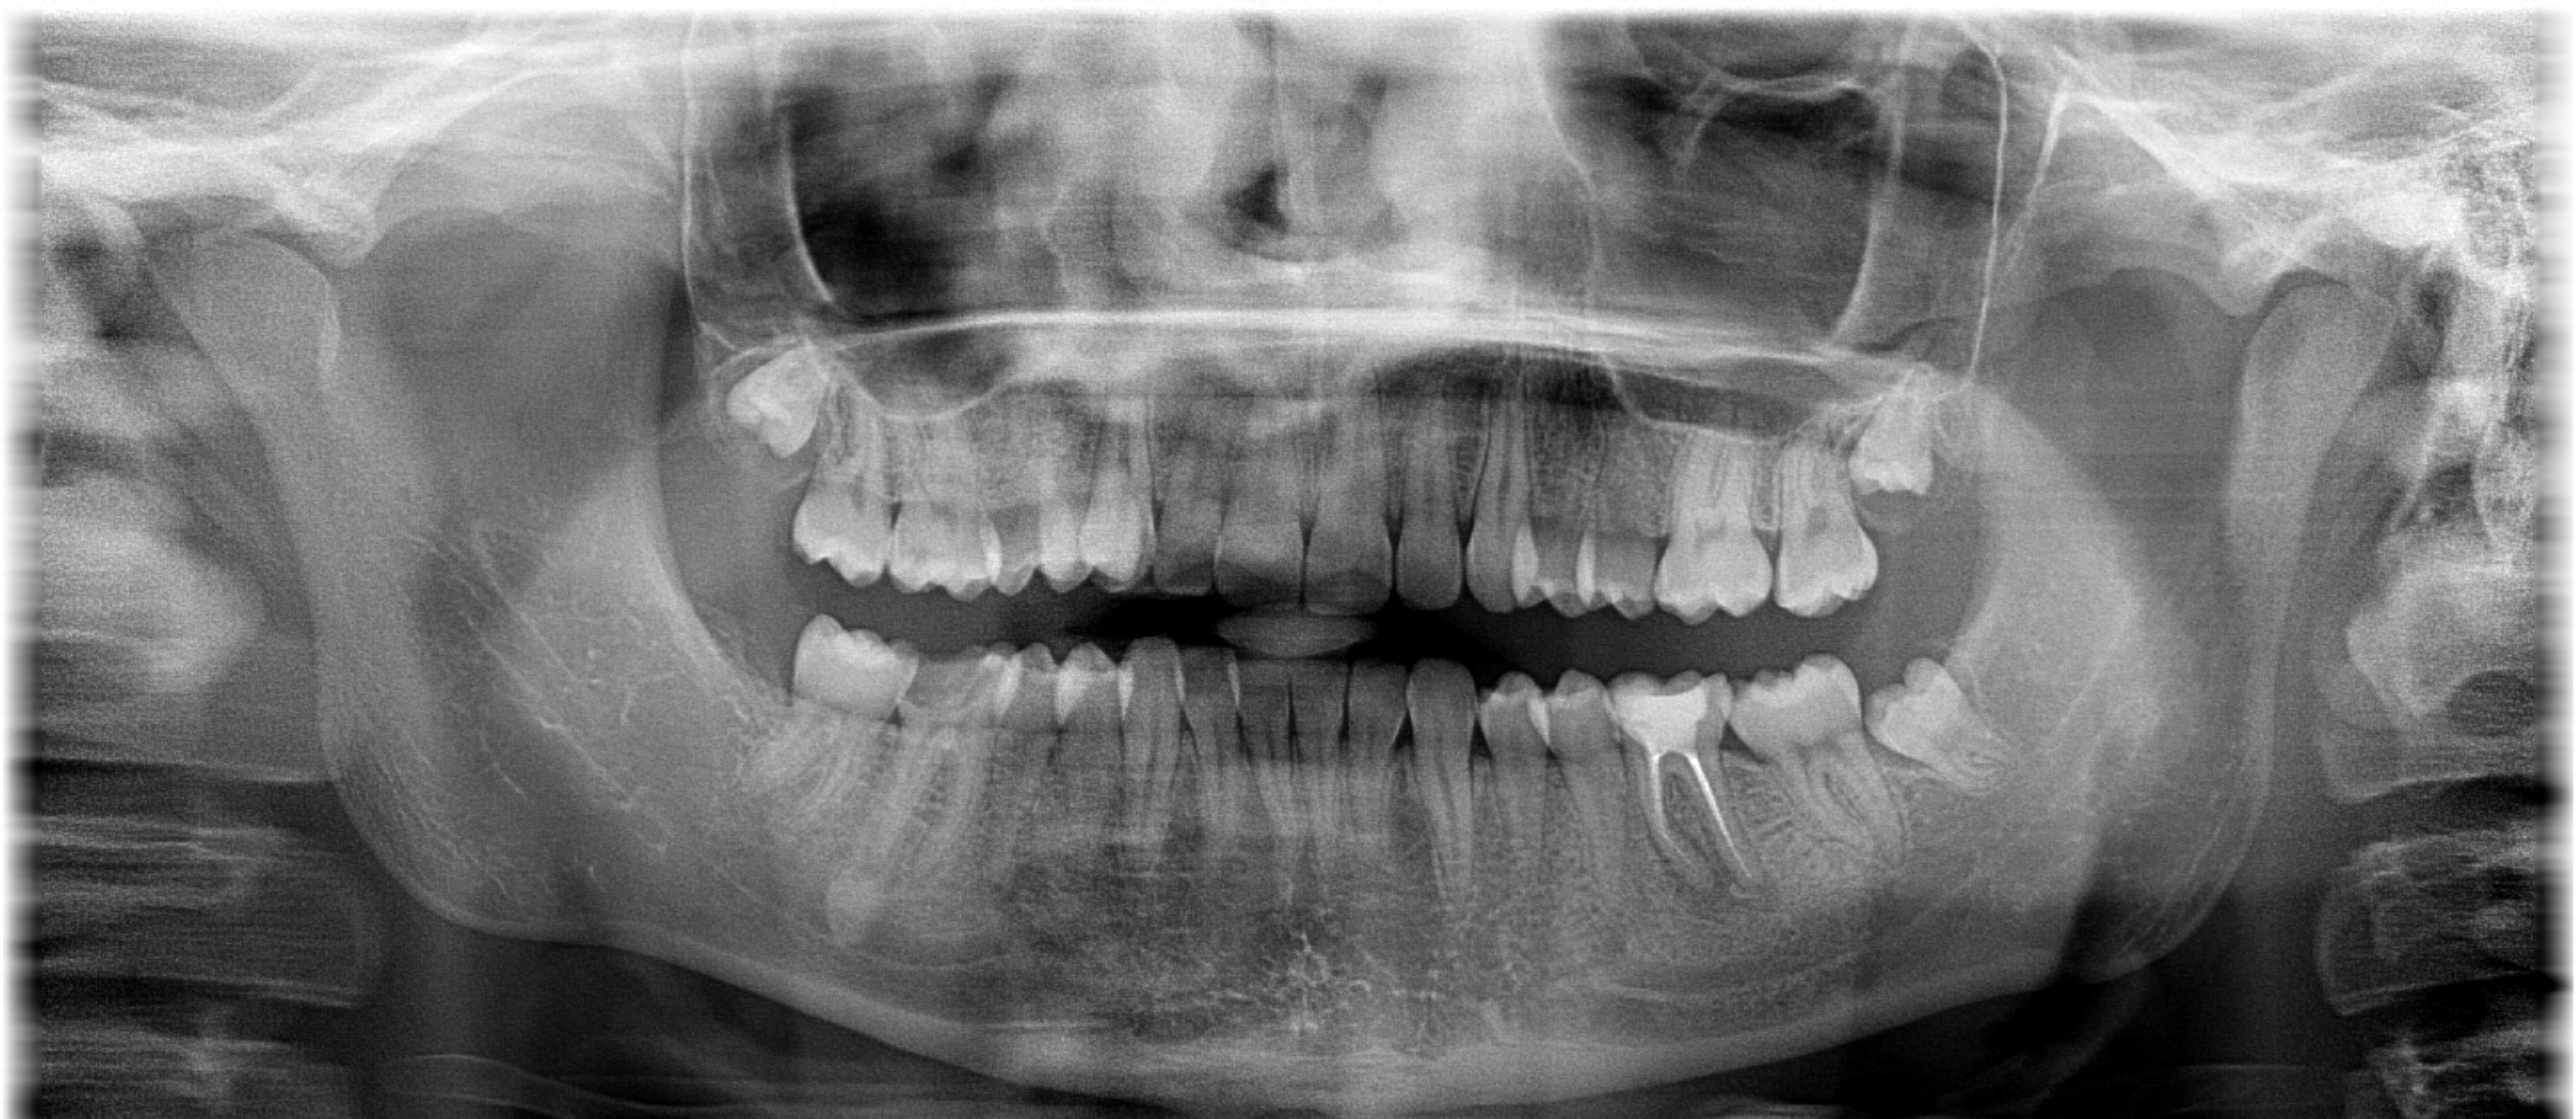cordal: (1860, 647, 2054, 818), (1814, 343, 1975, 518), (685, 312, 859, 470)
tratamiento_conducto: (1598, 651, 1787, 910)
